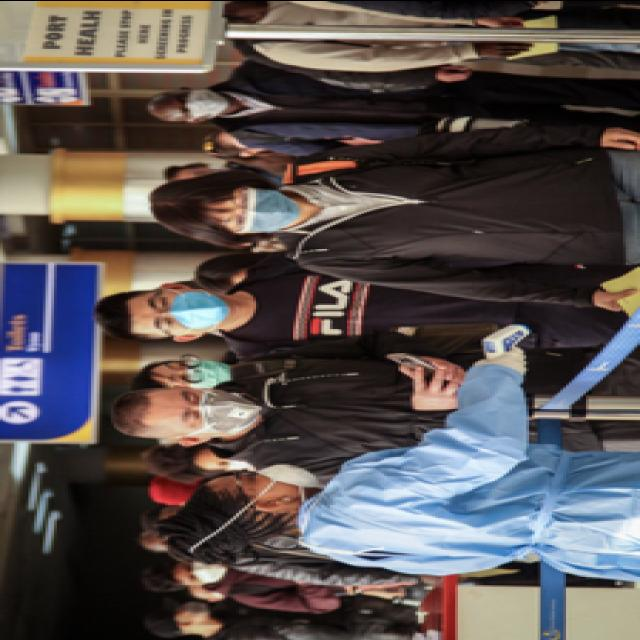with_mask: (140, 288, 233, 334), (173, 389, 259, 437), (218, 187, 304, 235), (227, 464, 313, 499), (162, 357, 230, 389), (170, 88, 228, 118), (179, 560, 225, 586)
